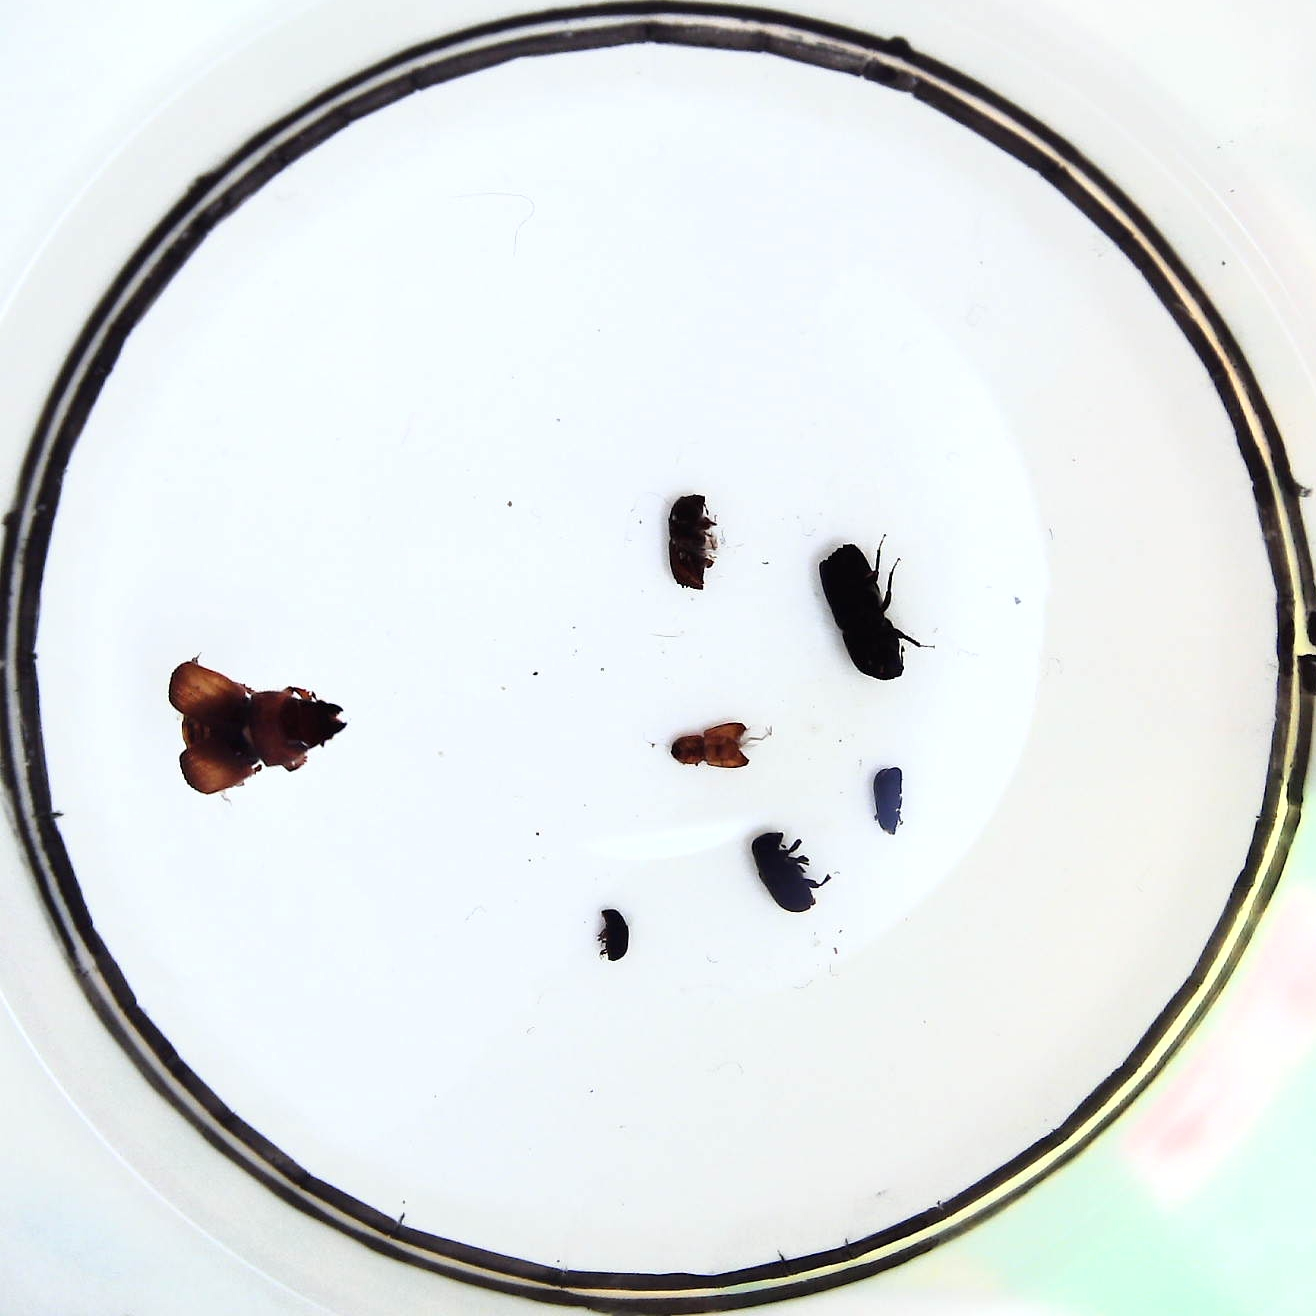Boerner: (819, 544, 907, 682)
Leconte: (170, 660, 346, 797)
Linnaeus: (666, 493, 716, 593)
acuminatus: (671, 724, 754, 770)
armandi: (750, 832, 823, 913)
coleoptera: (868, 764, 904, 836), (599, 906, 631, 960)
